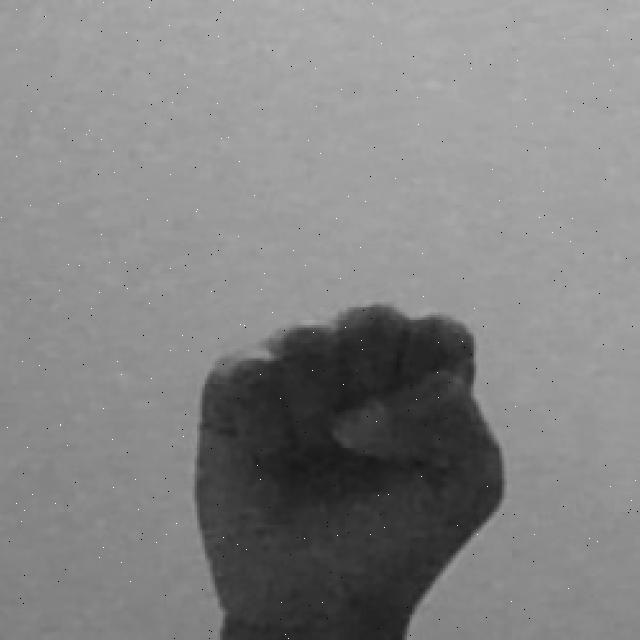S: (189, 293, 511, 640)
